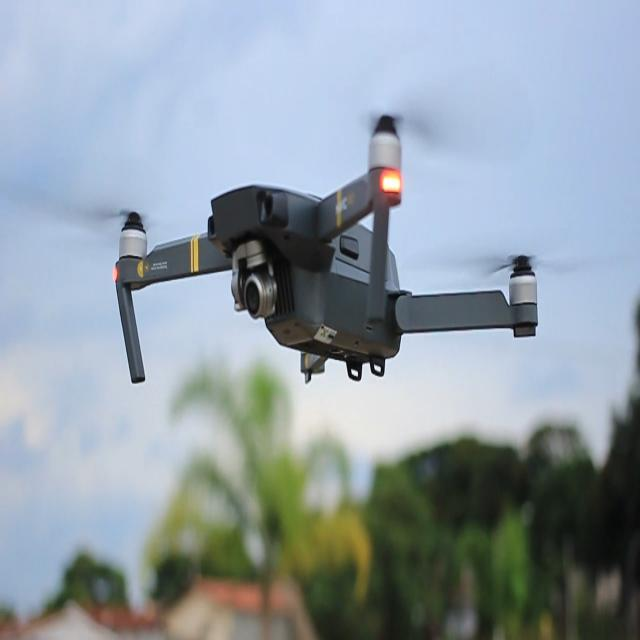Drone: (114, 117, 540, 385)
